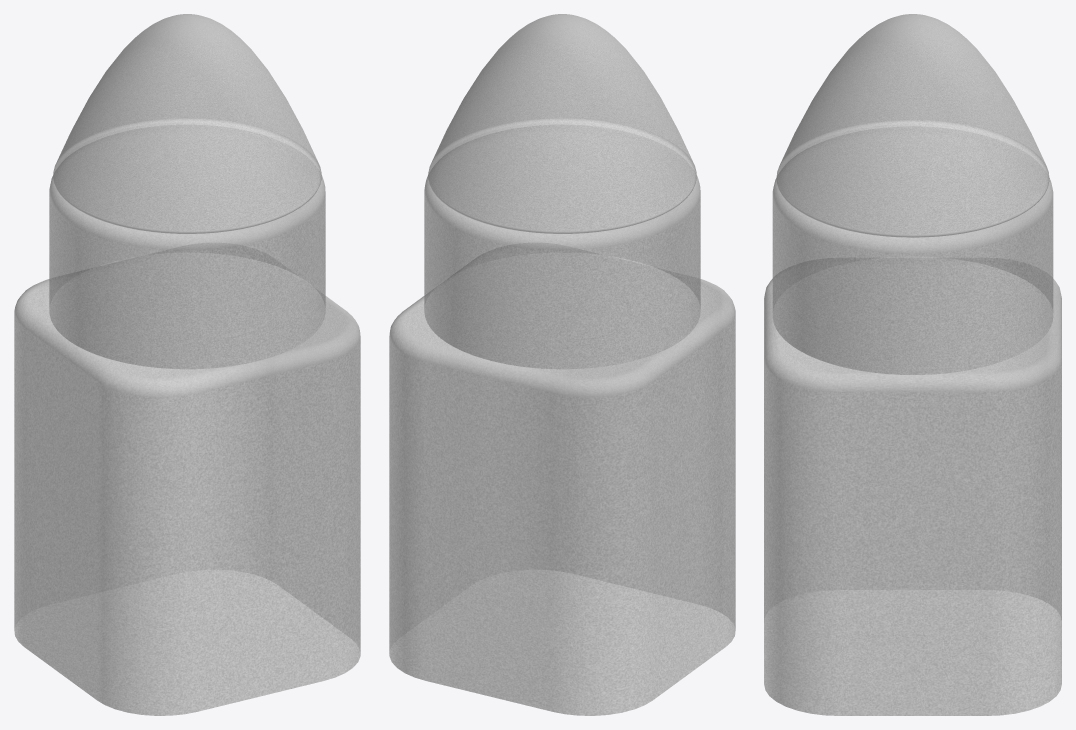
Rendered from sand.glb.
3 renders of one model, left to right at view 1: azimuth 30°, elevation 25°; view 2: azimuth 150°, elevation 25°; view 3: azimuth 270°, elevation 25°, orthographic.
Visible parts, largest first — view 1: model1; view 2: model1; view 3: model1.
Part boxes in pixels (x1,y1,x2,y2): model1: (14, 14, 360, 715); model1: (389, 14, 735, 715); model1: (764, 14, 1061, 715).
Bounding box in the file's own units: 0.05 × 0.1174 × 0.05.
Materials: 1 (1 with a texture image).
